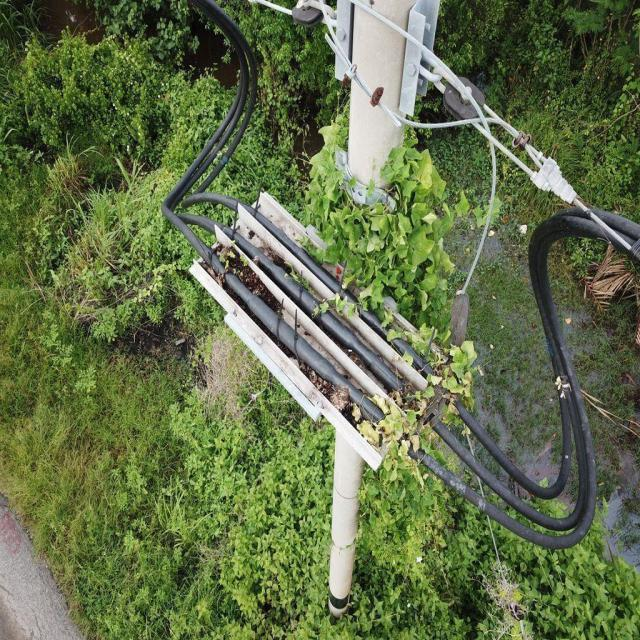critical vegetation: (290, 79, 502, 480)
